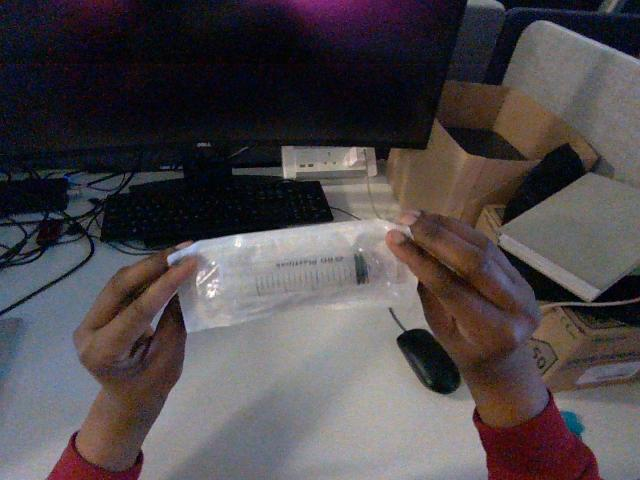syringe: (168, 220, 416, 331)
